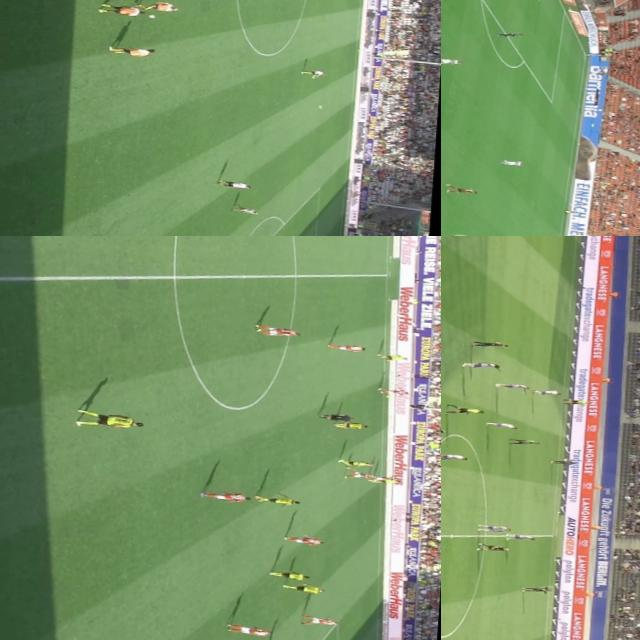ball: (144, 13, 158, 20), (314, 104, 324, 110), (382, 393, 392, 399)
player: (74, 410, 144, 430), (198, 490, 250, 502), (225, 624, 272, 637), (106, 46, 156, 58), (94, 4, 144, 16), (256, 494, 300, 507), (278, 582, 325, 594), (266, 569, 309, 582), (280, 534, 324, 546), (298, 614, 337, 627), (459, 360, 504, 370), (258, 326, 296, 337), (475, 523, 512, 534), (326, 342, 366, 352), (494, 29, 526, 41), (144, 2, 182, 12), (441, 53, 464, 68), (338, 458, 372, 468), (343, 469, 377, 479), (474, 340, 508, 350), (441, 451, 468, 463), (494, 158, 526, 168), (334, 420, 366, 430), (506, 532, 538, 542), (376, 386, 407, 396), (378, 354, 410, 363), (506, 438, 540, 446), (218, 182, 250, 190), (444, 185, 476, 193), (520, 586, 550, 594), (302, 69, 328, 78), (548, 457, 574, 466), (372, 477, 401, 485), (486, 421, 518, 428), (497, 382, 527, 389), (534, 388, 560, 396)
